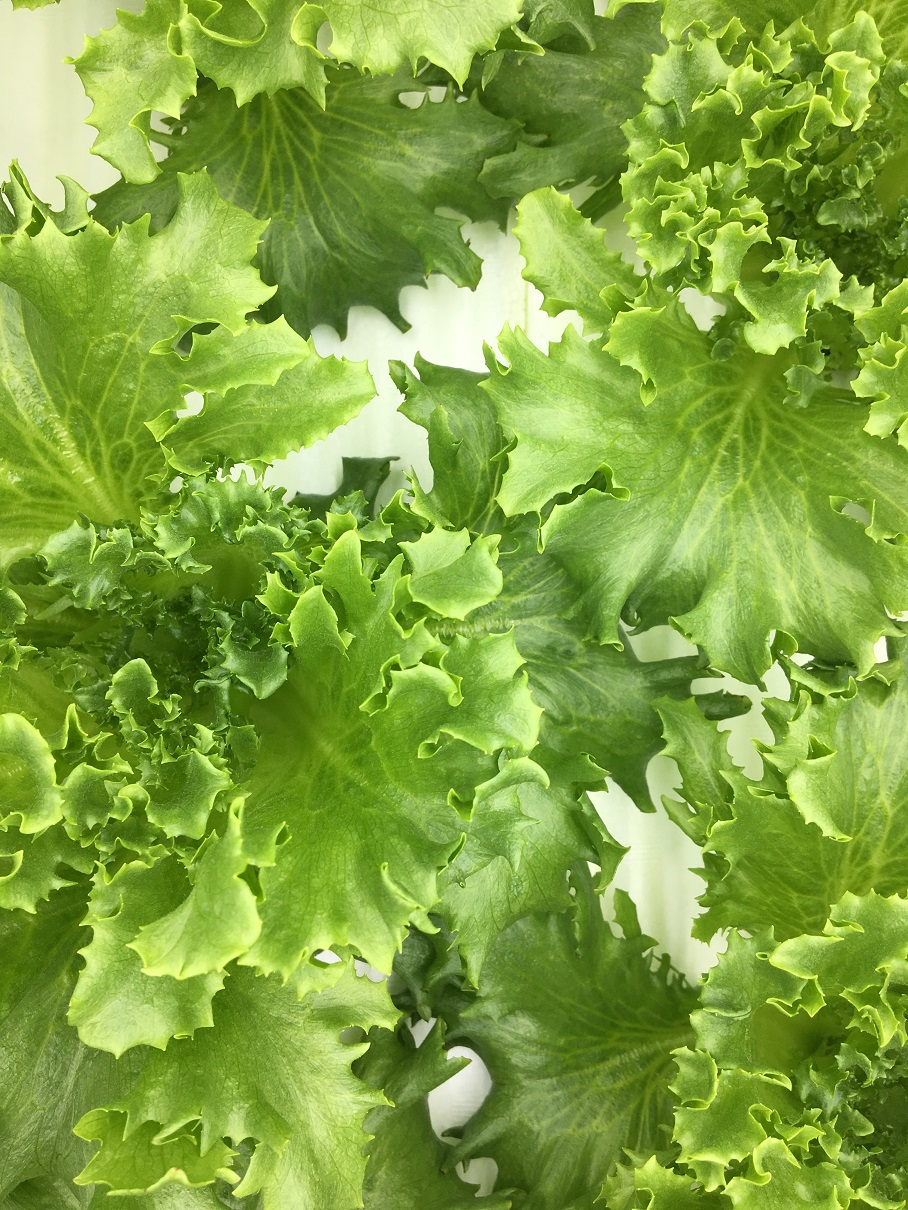tipburn: (448, 275, 484, 299), (429, 1156, 458, 1184), (727, 693, 758, 717), (706, 658, 731, 687), (417, 266, 437, 289)
